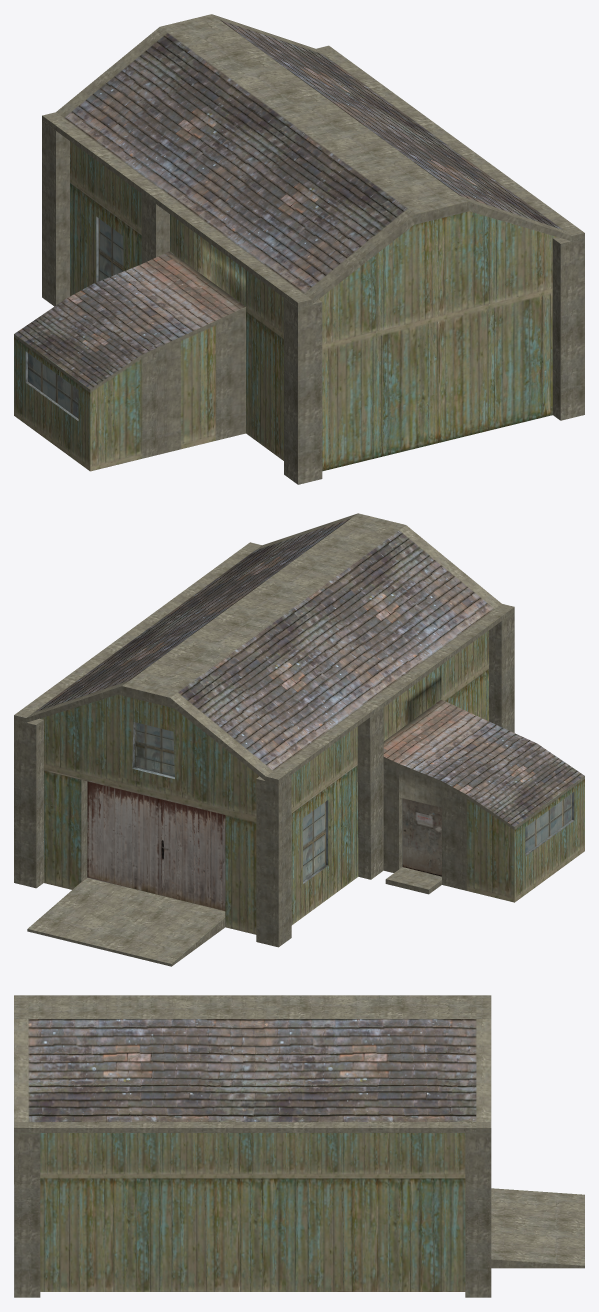
The model's file is farm.obj.
The picture shows the model from 3 angles, top to bottom: view 1: azimuth 30°, elevation 25°; view 2: azimuth 150°, elevation 25°; view 3: azimuth 270°, elevation 25°; orthographic projection. The views are drawn at different scales.
Parts seen in each view (by area): view 1: Cube.016; view 2: Cube.016; view 3: Cube.016.
Part boxes in pixels (x1,y1,x2,y2): Cube.016: [14, 14, 584, 484]; Cube.016: [14, 513, 584, 966]; Cube.016: [14, 995, 584, 1297].
Size of the model in its own units: 67.52 by 36.42 by 83.5.
1 material, 1 textured.
